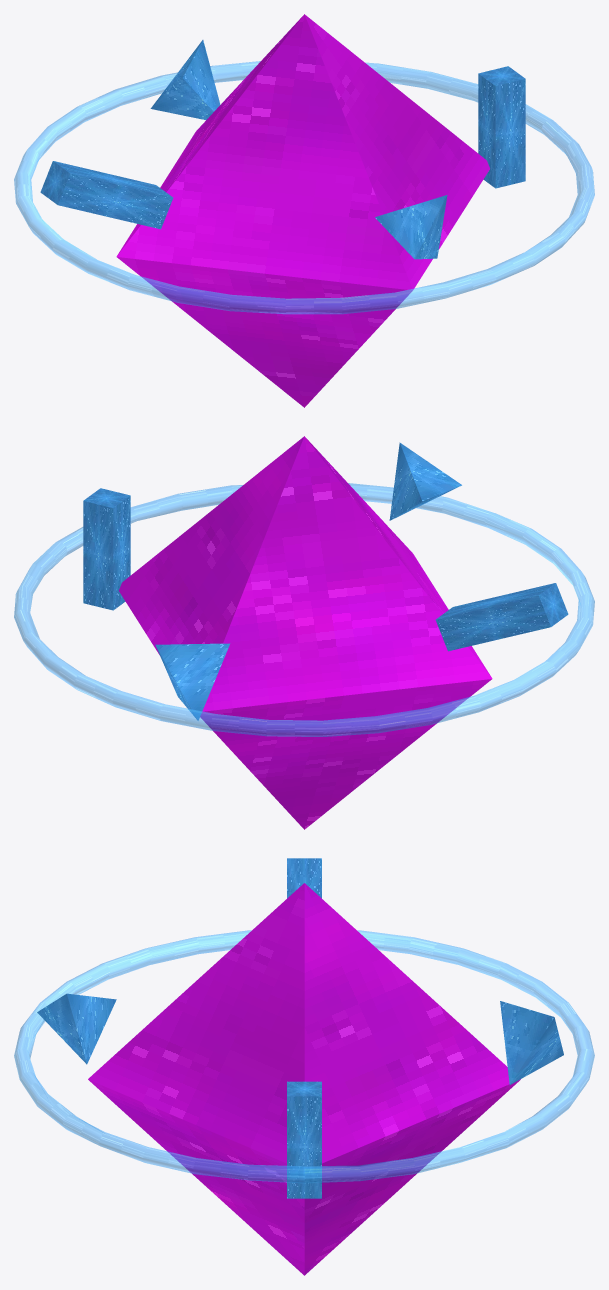
Rendered from anomaly-cluster-magenta.medium.glb.
3 renders of one model, top to bottom at view 1: azimuth 30°, elevation 25°; view 2: azimuth 150°, elevation 25°; view 3: azimuth 270°, elevation 25°, orthographic.
Parts seen in each view (by area): view 1: shell, ring, orbital-0; view 2: shell, ring, orbital-0; view 3: shell, ring, orbital-0.
Part boxes in pixels (x1,y1,x2,y2): shell: (116,14,489,407); ring: (14,61,594,314); orbital-0: (40,40,525,259); shell: (119,436,492,829); ring: (14,483,594,736); orbital-0: (83,442,568,720); shell: (88,883,520,1275); ring: (14,930,594,1183); orbital-0: (37,858,563,1198).
Size of the model in its own units: 2.7 by 2 by 2.68.
Materials: 3 (3 with a texture image).
